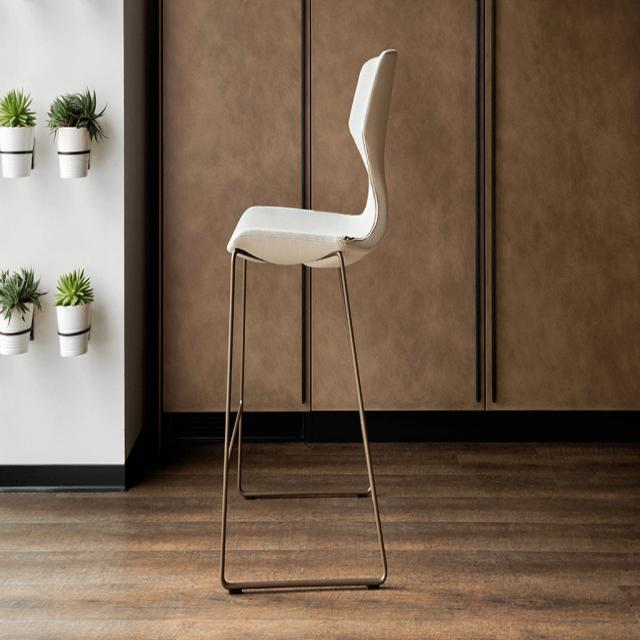chair: (218, 43, 400, 603), (215, 41, 403, 285)
